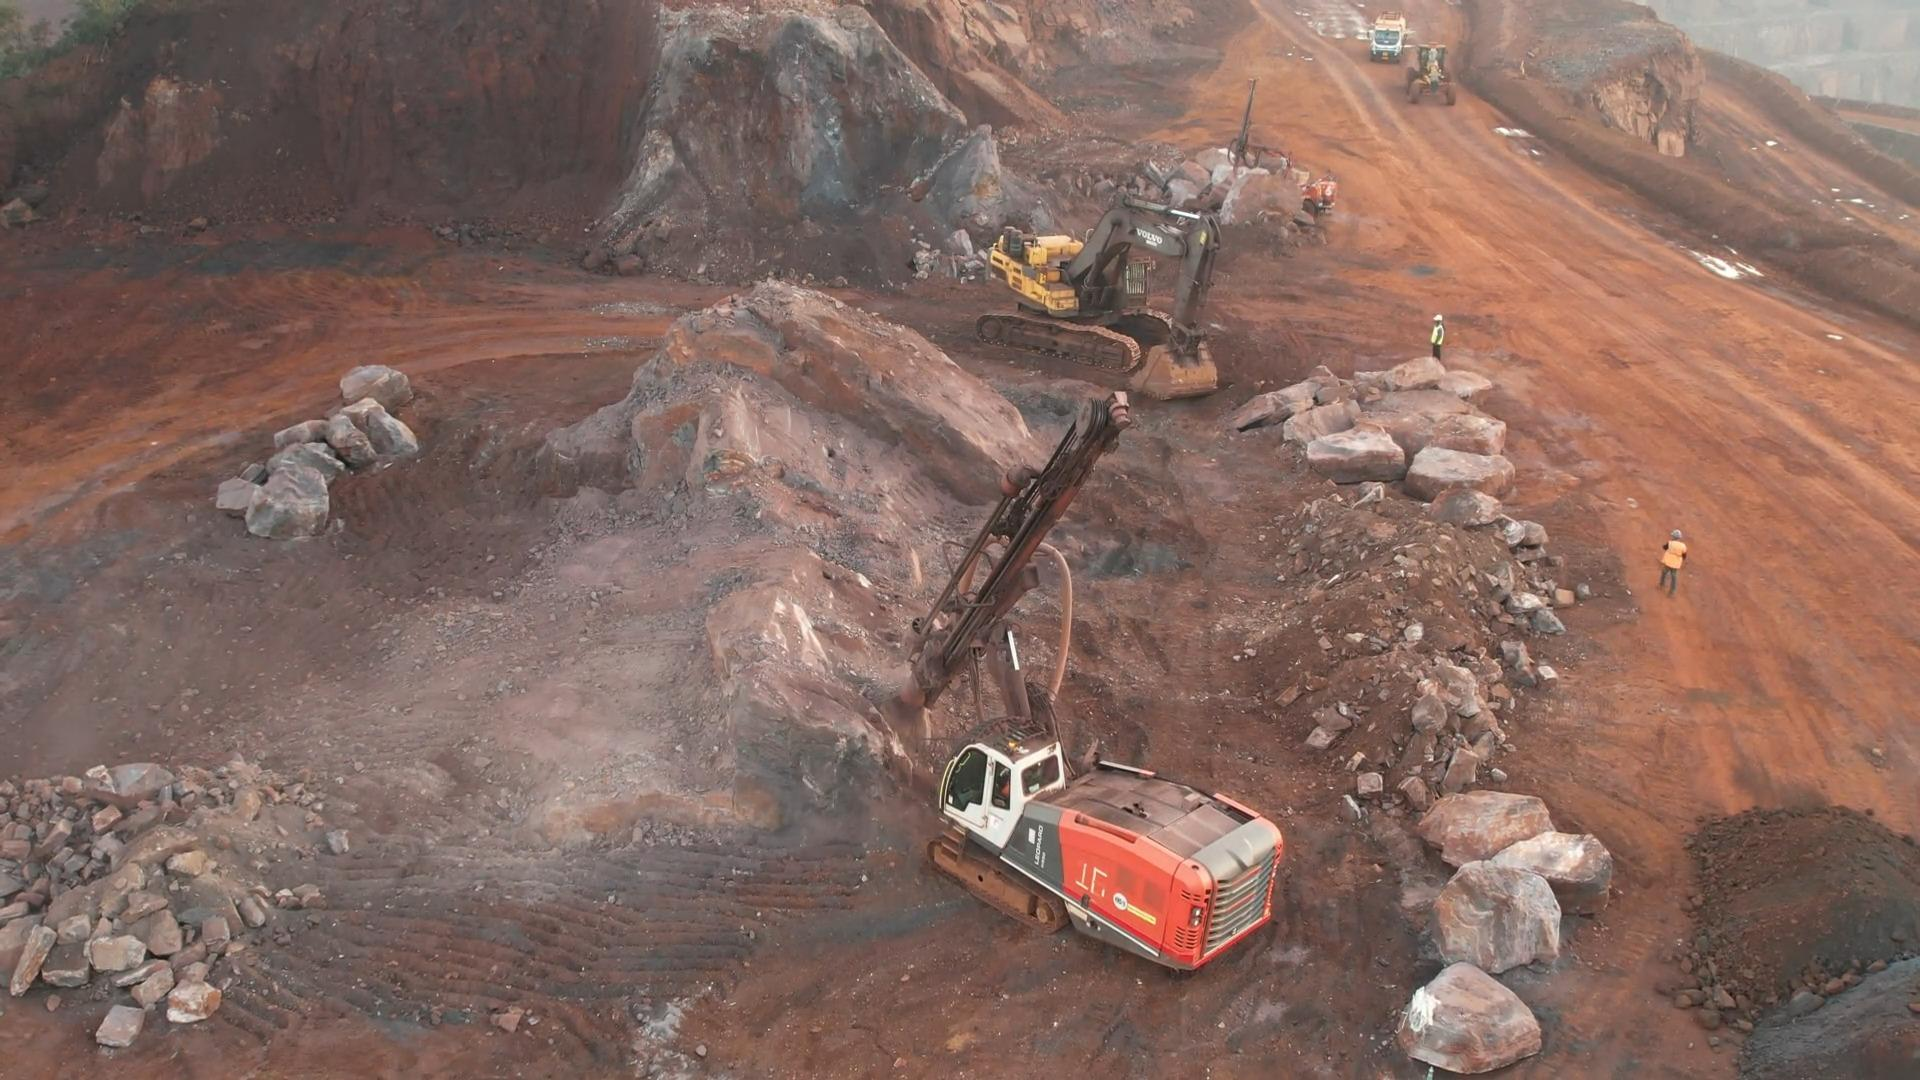excavator: (991, 216, 1223, 384)
